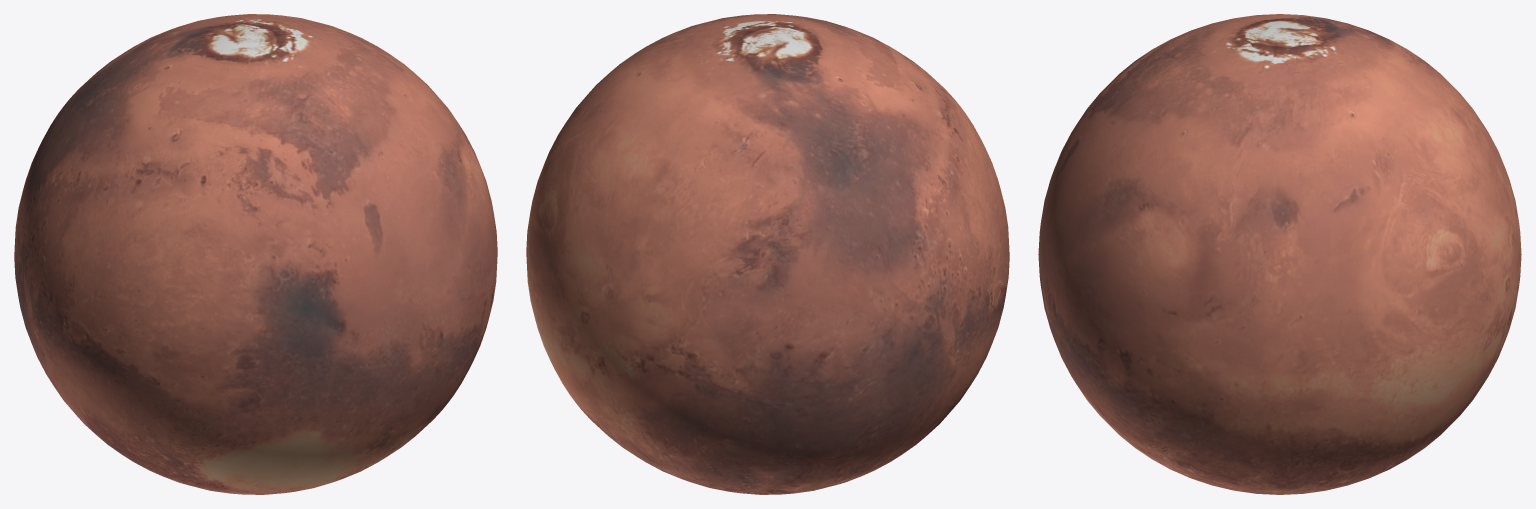
File: Mars.gltf
3 views of the same model, side by side, from view 1: azimuth 30°, elevation 25°; view 2: azimuth 150°, elevation 25°; view 3: azimuth 270°, elevation 25° (orthographic).
Parts seen in each view (by area): view 1: Cube.008; view 2: Cube.008; view 3: Cube.008.
Part boxes in pixels (<box>): Cube.008: <box>14,14,497,494</box>; Cube.008: <box>526,14,1009,494</box>; Cube.008: <box>1038,14,1521,494</box>.
Size of the model in its own units: 1000 by 994 by 1000.
1 material, 1 textured.
